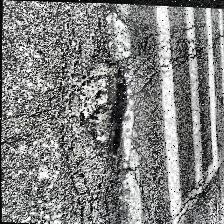pothole: (72, 68, 130, 156)
